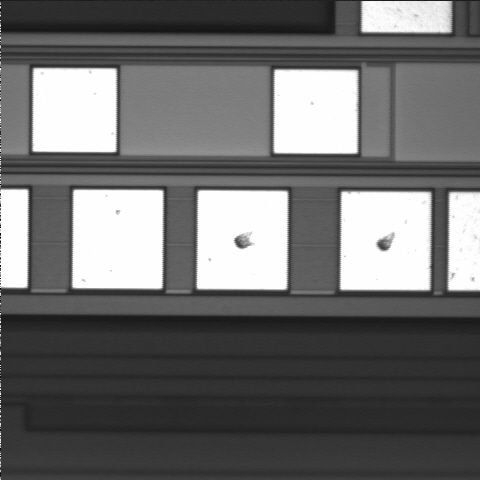pad: (197, 191, 288, 289), (73, 190, 163, 289), (341, 192, 431, 290), (33, 68, 116, 152), (274, 70, 358, 153)
